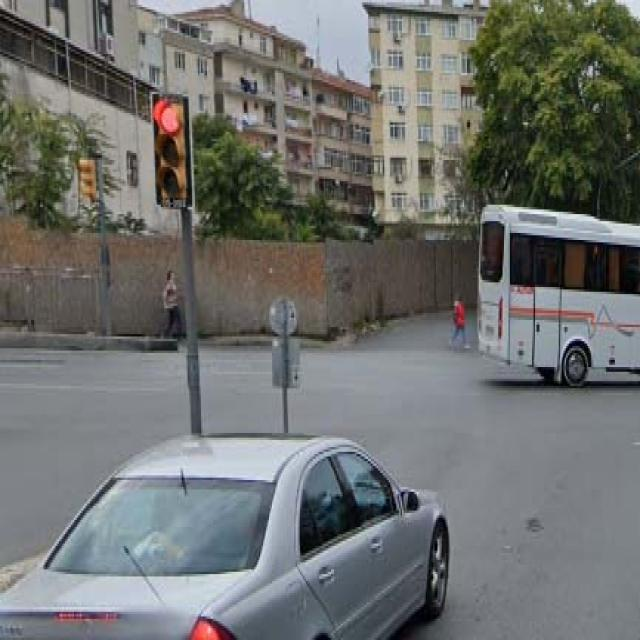kirmizi: (151, 90, 192, 210)
